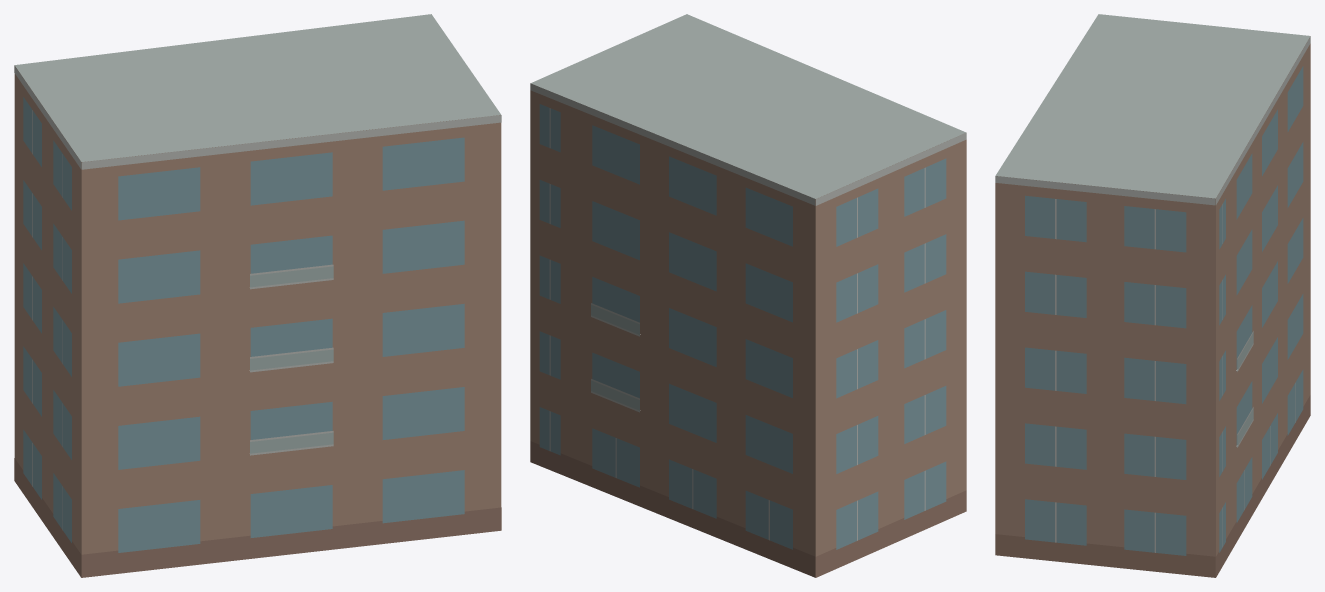
Rendered from survey-upis-32890083.glb.
3 renders of one model, left to right at view 1: azimuth 30°, elevation 25°; view 2: azimuth 150°, elevation 25°; view 3: azimuth 270°, elevation 25°, orthographic. The views are drawn at different scales.
Visible parts, largest first — view 1: survey-upis-32890083.tmp; view 2: survey-upis-32890083.tmp; view 3: survey-upis-32890083.tmp.
Boxes of the visible parts, x1=… form: survey-upis-32890083.tmp: x1=14, y1=14, x2=501, y2=577; survey-upis-32890083.tmp: x1=530, y1=14, x2=966, y2=577; survey-upis-32890083.tmp: x1=995, y1=14, x2=1310, y2=577.
Bounding box in the file's own units: 13.86 × 13.28 × 10.01.
